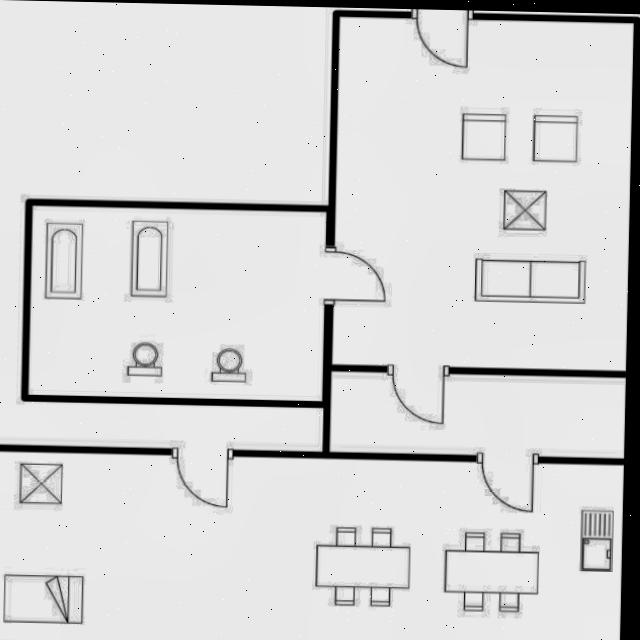room: (0, 451, 622, 640), (332, 17, 633, 371), (28, 206, 326, 401), (329, 373, 625, 459)
